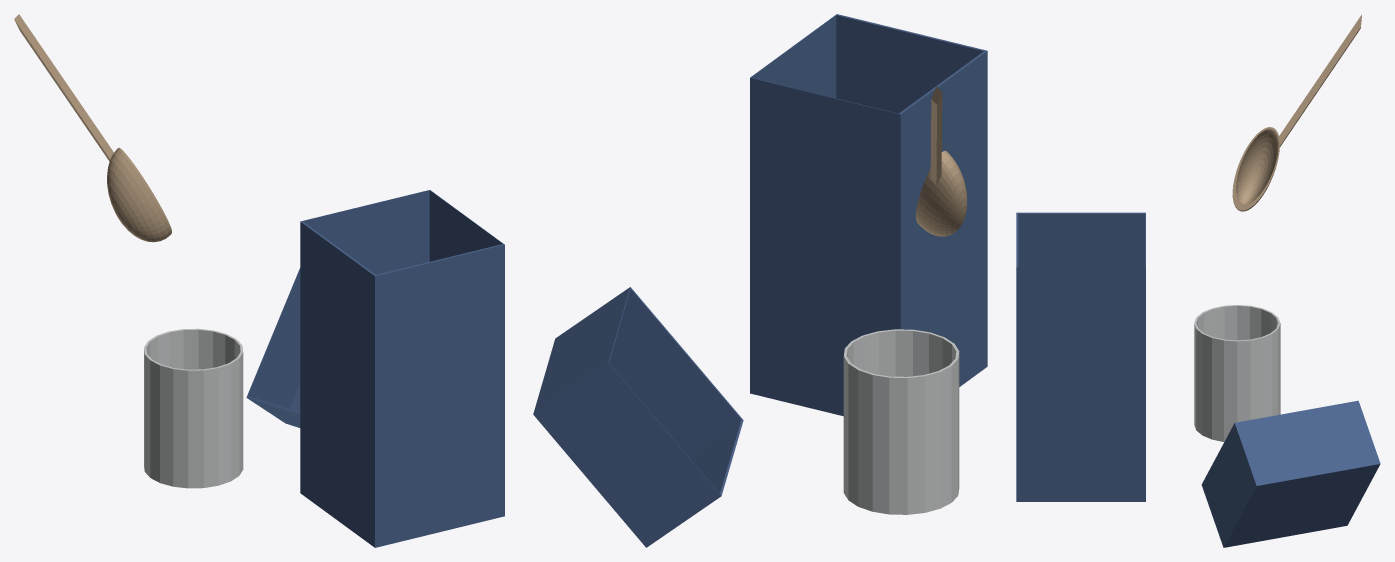
The model's file is coffee_shop.glb.
3 renders of one model, left to right at view 1: azimuth 30°, elevation 25°; view 2: azimuth 150°, elevation 25°; view 3: azimuth 270°, elevation 25°, orthographic. The views are drawn at different scales.
Visible parts, largest first — view 1: Mesh_Mesh_head_geo.001_lambert2SG.001; view 2: Mesh_Mesh_head_geo.001_lambert2SG.001; view 3: Mesh_Mesh_head_geo.001_lambert2SG.001.
Boxes of the visible parts, box(x1,y1,x2,y2) form: Mesh_Mesh_head_geo.001_lambert2SG.001: box(14, 14, 504, 547); Mesh_Mesh_head_geo.001_lambert2SG.001: box(533, 14, 987, 547); Mesh_Mesh_head_geo.001_lambert2SG.001: box(1016, 14, 1380, 547).
Size of the model in its own units: 228 by 258 by 211.
